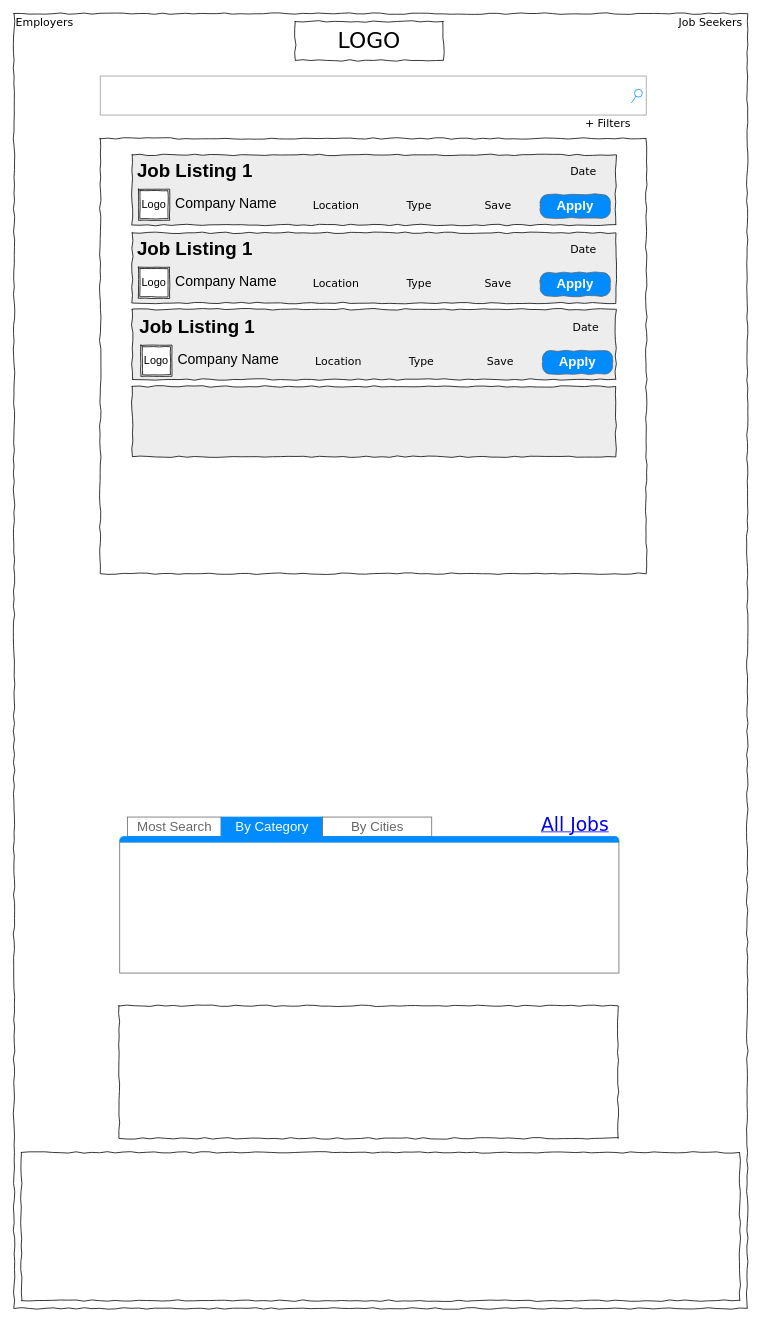
The diagram is 761 pixels wide and 1322 high, and some of its shapes have lost their labels. Each missing label, with the centre of its shape:
"10 Listings" goes at point 373,421.
"FOOTER Africa Map in Background" goes at point 380,1226.
"Skill, Job Title, Company" goes at point 372,95.
"TOP COMPANIES" goes at point 368,1071.
